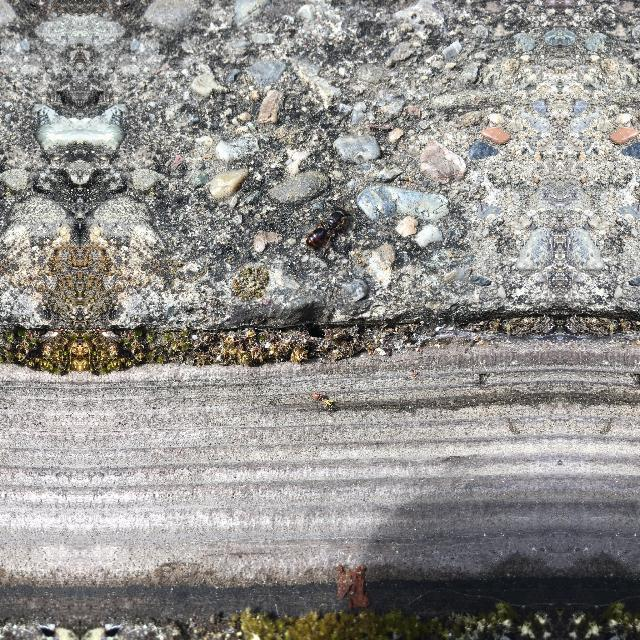Tetramorium: (300, 202, 352, 258)
